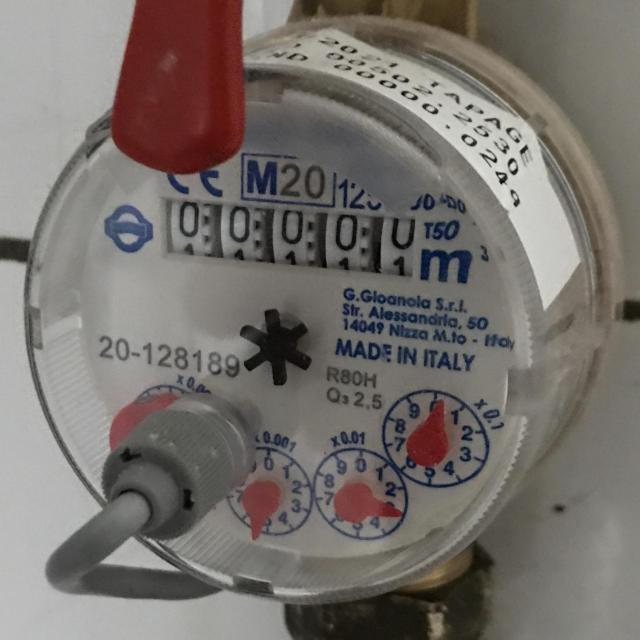gaz_meter: (23, 70, 552, 597)
indication: (165, 194, 419, 279)
